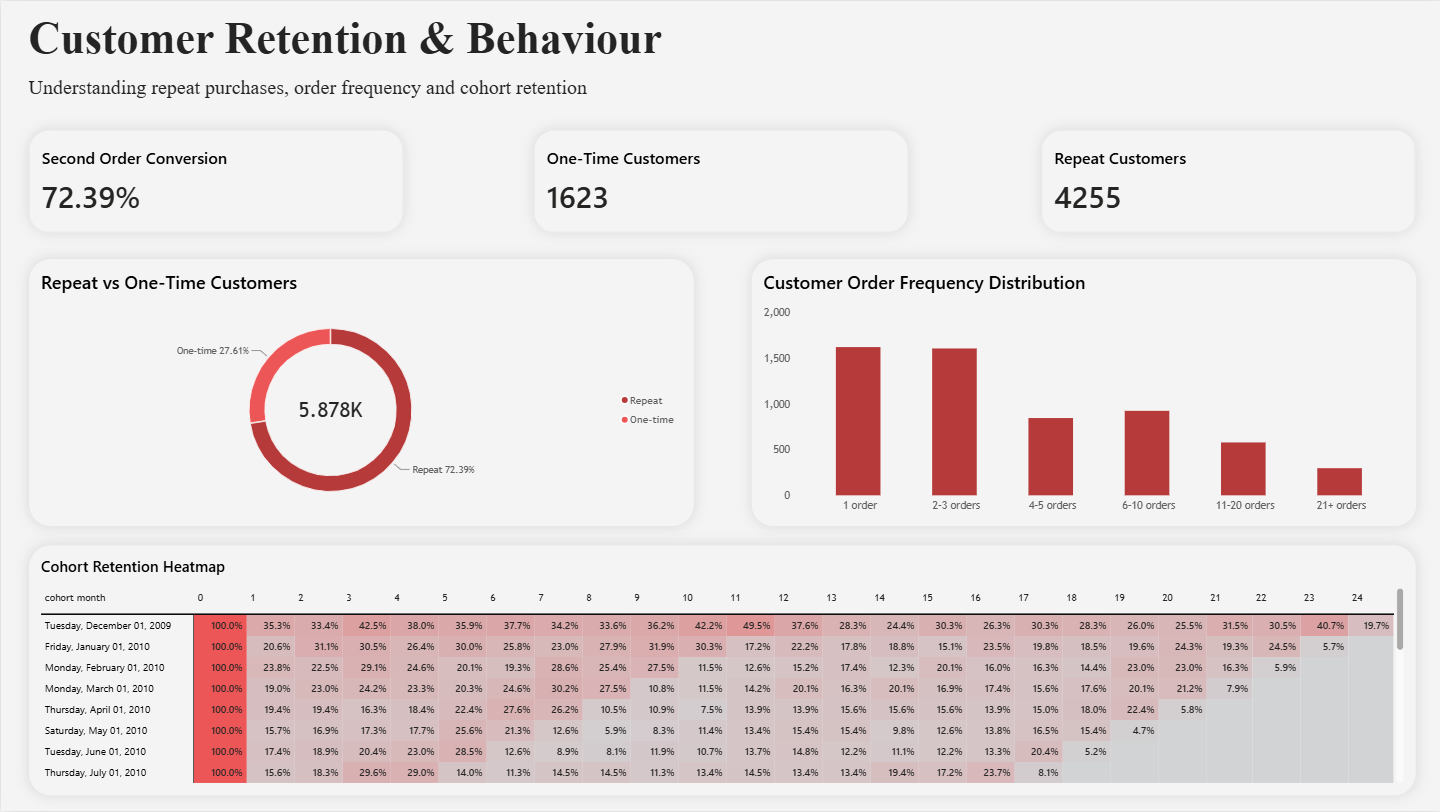

The dashboard page shown, as its layout file describes it:
{"tool":"powerbi","page":{"name":"Customer Retention & Behaviour","canvas":[1920,1080],"ordinal":1},"visuals":[{"type":"donutChart","title":"Repeat vs One-Time Customers","fields":{"Category":["customer_summary.customer_type"],"Y":["CountNonNull(customer_summary.customer_id)"]},"box":[36.6,343.6,887.8,357.6],"z":0},{"type":"clusteredColumnChart","title":"Customer Order Frequency Distribution","fields":{"Category":["customer_summary.Order Frequency Band"],"Y":["CountNonNull(customer_summary.customer_id)"]},"box":[999.4,343.6,887.8,357.6],"z":1000},{"type":"pivotTable","title":"Cohort Retention Heatmap","fields":{"Columns":["cohort_retention.cohort_index"],"Rows":["cohort_retention.cohort_month"],"Values":["Sum(cohort_retention.retention_rate)"]},"box":[36.6,725.6,1850.6,334.9],"z":2000},{"type":"cardVisual","fields":{"Data":["customer_summary.Second Order Conversion %"]},"box":[36.3,170.9,500,137.8],"z":3000},{"type":"cardVisual","fields":{"Data":["customer_summary.Repeat Customers"]},"box":[1386.6,170.9,500,137.8],"z":4000},{"type":"cardVisual","fields":{"Data":["customer_summary.One-Time Customers"]},"box":[709.9,170.9,500,137.8],"z":5000},{"type":"textbox","box":[36.6,17.4,1850.6,123.8],"z":5001}]}

Visuals, with their boxes in screenshot pixels (x1, y1, x2, y2), scaled from the page's 1920x1080 canvas onto the 1440x812 screenshot:
"Repeat vs One-Time Customers" donutChart: select_region(27, 258, 693, 527)
"Customer Order Frequency Distribution" clusteredColumnChart: select_region(750, 258, 1415, 527)
"Cohort Retention Heatmap" pivotTable: select_region(27, 546, 1415, 797)
cardVisual - customer_summary.Second Order Conversion %: select_region(27, 128, 402, 232)
cardVisual - customer_summary.Repeat Customers: select_region(1040, 128, 1415, 232)
cardVisual - customer_summary.One-Time Customers: select_region(532, 128, 907, 232)
textbox: select_region(27, 13, 1415, 106)
